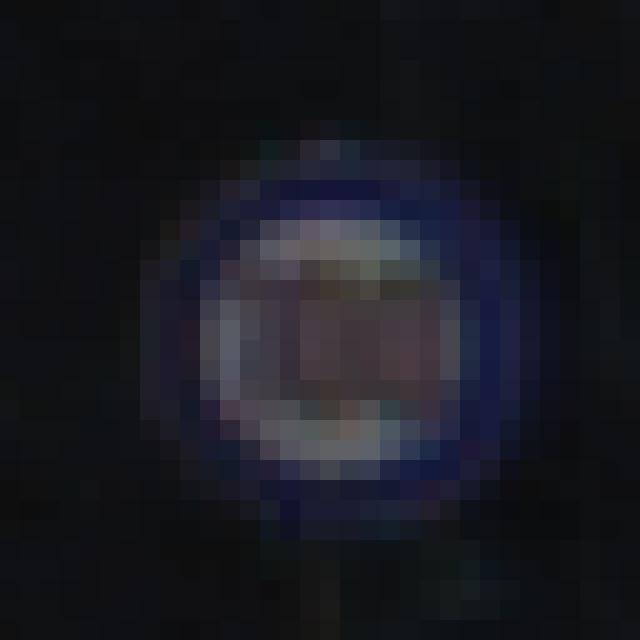SPEED LIMIT 100: (138, 157, 518, 512)
